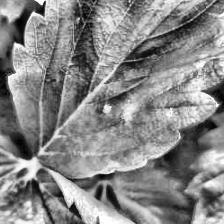Powdery Mildew Leaf: (7, 0, 224, 180)
